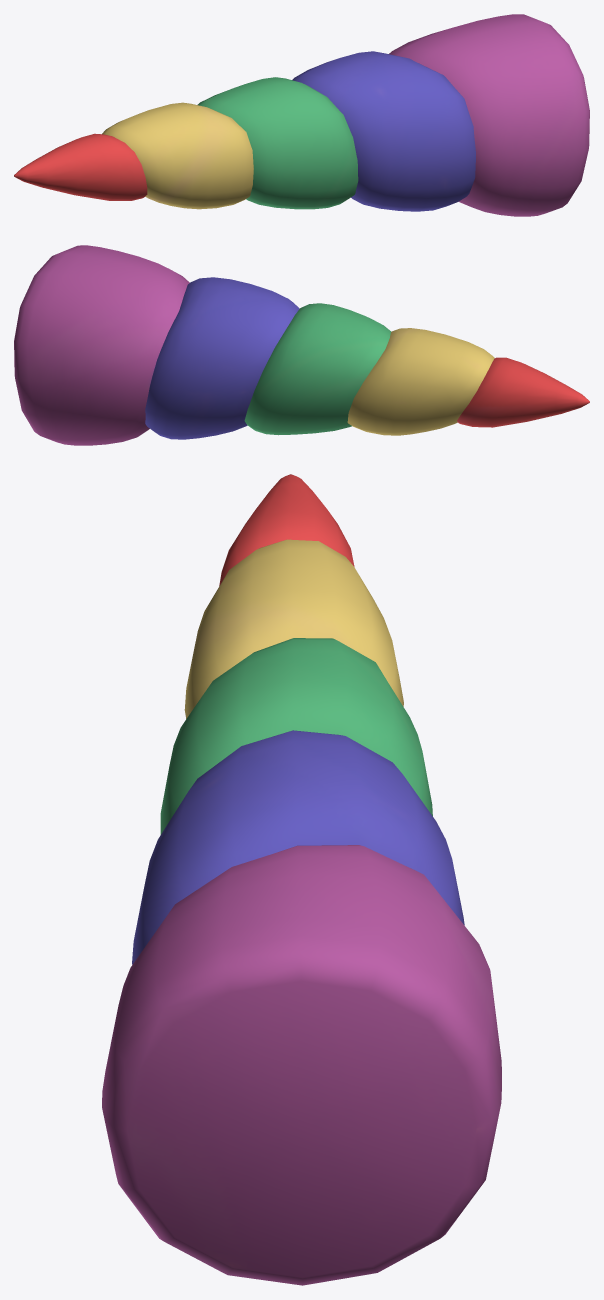
The model's file is CrinaDeUnicornio.fbx.
The picture shows the model from 3 angles, top to bottom: view 1: azimuth 30°, elevation 25°; view 2: azimuth 150°, elevation 25°; view 3: azimuth 270°, elevation 25°; orthographic projection. The views are drawn at different scales.
Parts seen in each view (by area): view 1: Chifre de Unicornio; view 2: Chifre de Unicornio; view 3: Chifre de Unicornio.
Boxes of the visible parts, left/top/right/bottom form: Chifre de Unicornio: left=14, top=14, right=589, bottom=216; Chifre de Unicornio: left=14, top=245, right=589, bottom=445; Chifre de Unicornio: left=102, top=474, right=501, bottom=1285.
Size of the model in its own units: 212 by 68.42 by 68.09.
